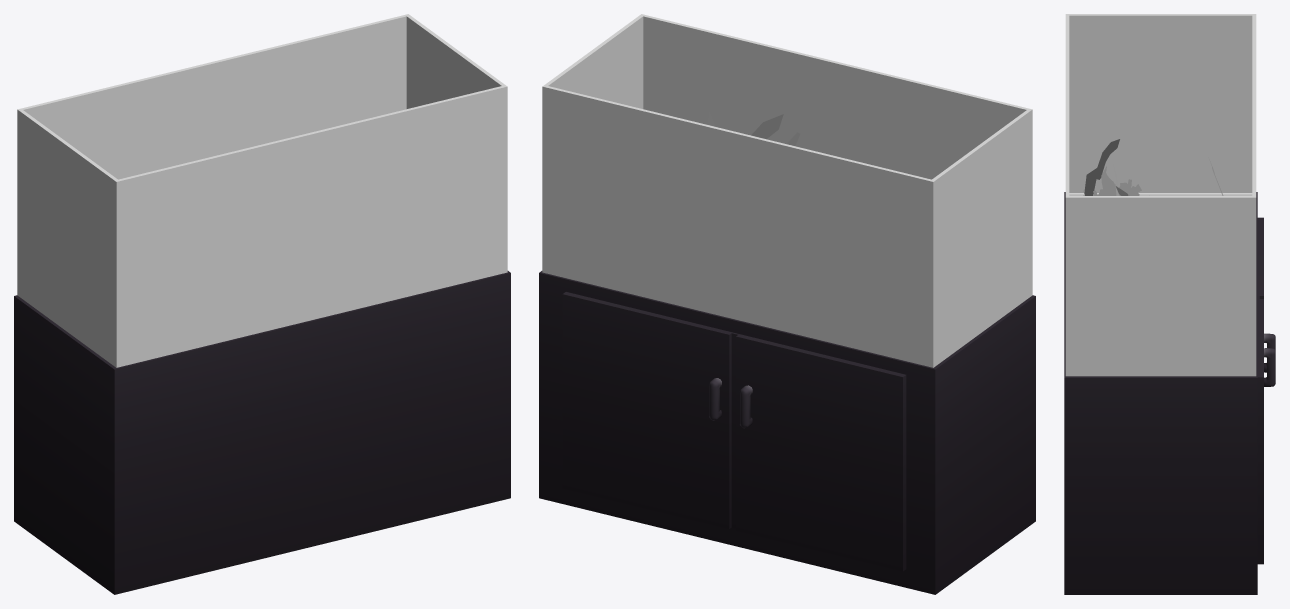
Rendered from aquarium_w_seaweed_corals_rocks.fbx.
3 views of the same model, side by side, from view 1: azimuth 30°, elevation 25°; view 2: azimuth 150°, elevation 25°; view 3: azimuth 270°, elevation 25° (orthographic). The views are drawn at different scales.
Parts seen in each view (by area): view 1: Aquarium_glass, Fish tank; view 2: Aquarium_glass, doors_w_handle, Fish tank; view 3: Aquarium_glass, Fish tank, doors_w_handle, double broken back.001.
Part boxes in pixels (x1,y1,x2,y2): Aquarium_glass: [17, 14, 507, 367]; Fish tank: [14, 271, 510, 594]; Aquarium_glass: [542, 14, 1032, 367]; doors_w_handle: [562, 292, 906, 571]; Fish tank: [539, 271, 1035, 594]; Aquarium_glass: [1065, 14, 1256, 376]; Fish tank: [1064, 192, 1257, 594]; doors_w_handle: [1257, 217, 1275, 564]; double broken back.001: [1084, 139, 1119, 195].
Bounding box in the file's own units: 311 × 308 × 149.
